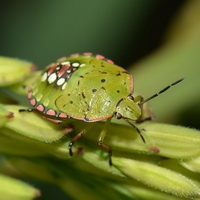insect: (27, 53, 157, 164)
